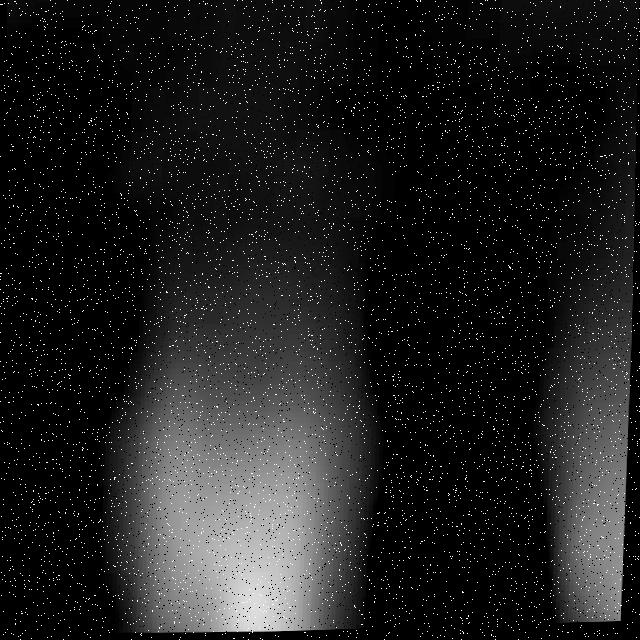person: (138, 276, 366, 638), (503, 188, 637, 629)
